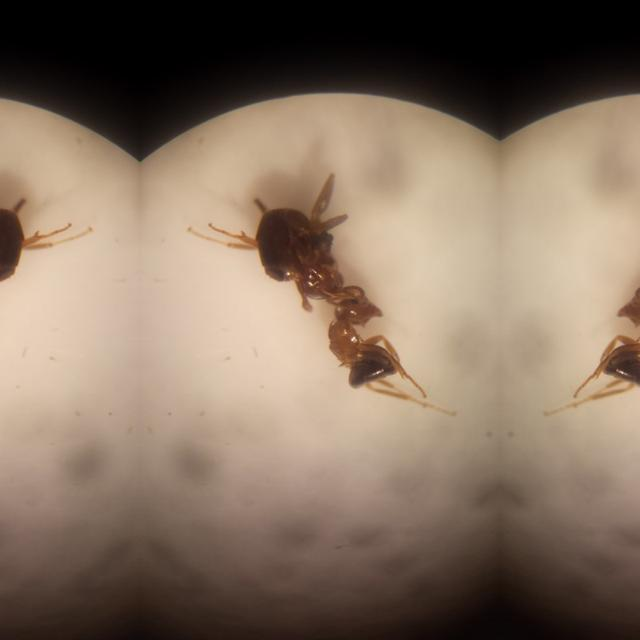Lasius: (317, 286, 433, 408), (566, 286, 640, 408)
